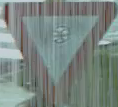Give way: (8, 2, 107, 93)
